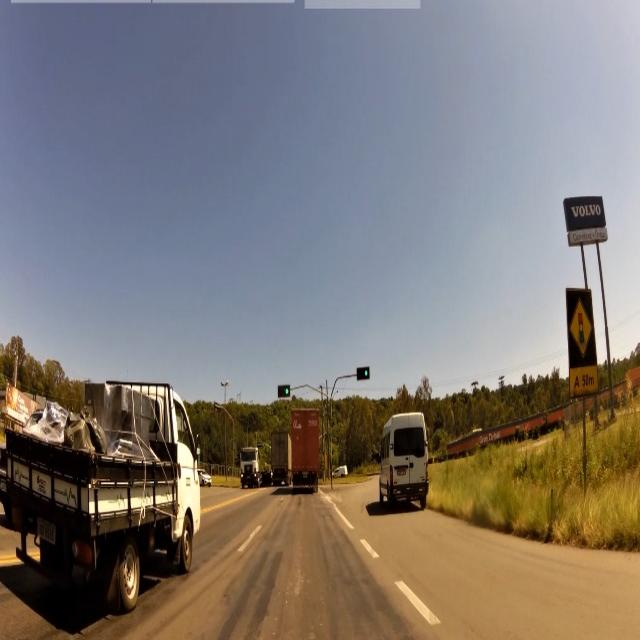A-14: (567, 294, 594, 358)
